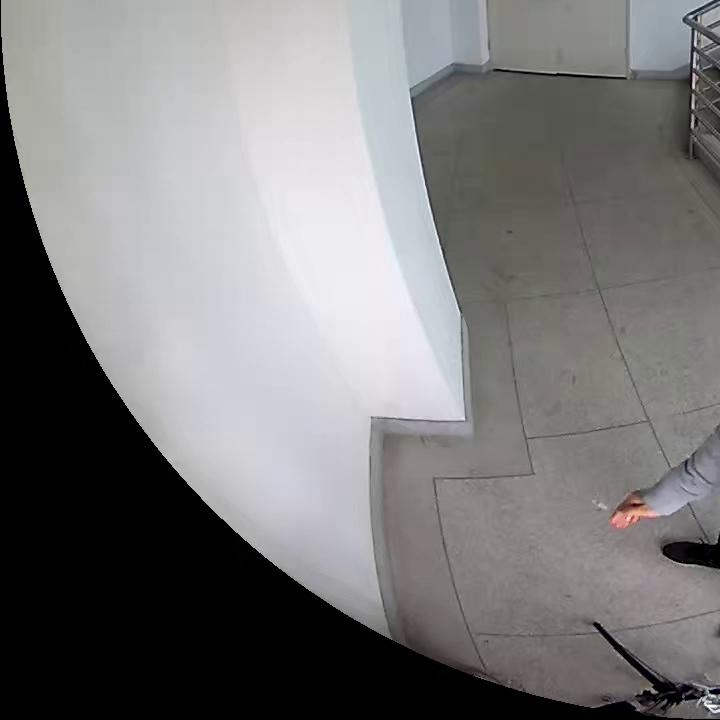handsmoke: (589, 490, 658, 527)
